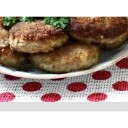cutlet: (35, 45, 102, 71), (9, 23, 68, 51), (71, 17, 128, 45)
